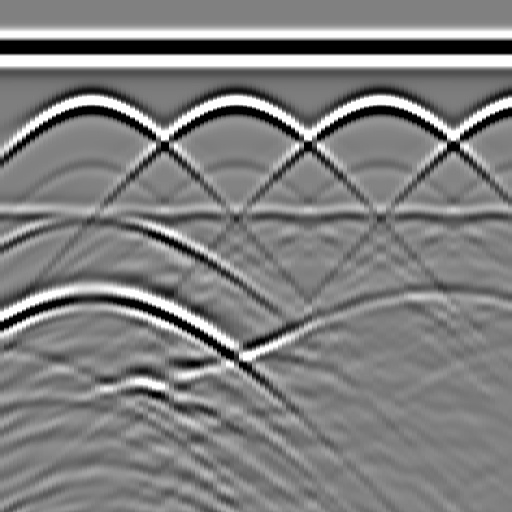grout_surface: (1, 199, 512, 229)
rebar: (69, 84, 109, 124), (214, 84, 254, 124), (358, 84, 398, 124), (502, 84, 512, 124)
rock_surface: (1, 293, 511, 397)
water_void: (63, 193, 123, 233)
